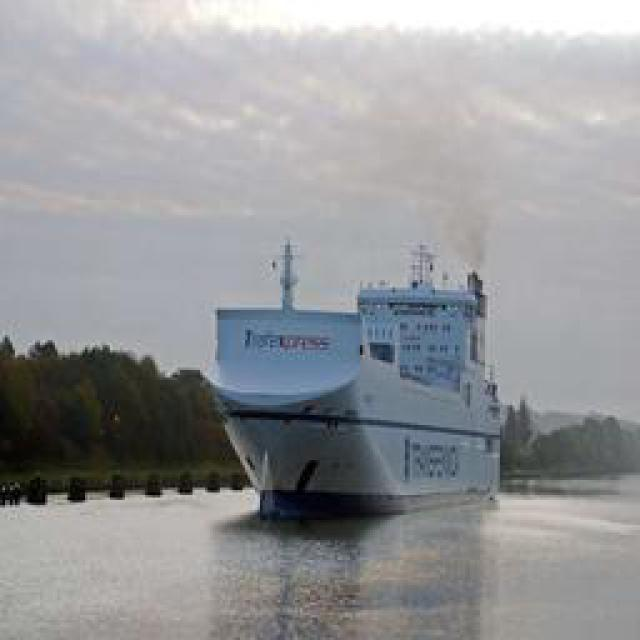Ship: (202, 242, 500, 522)
